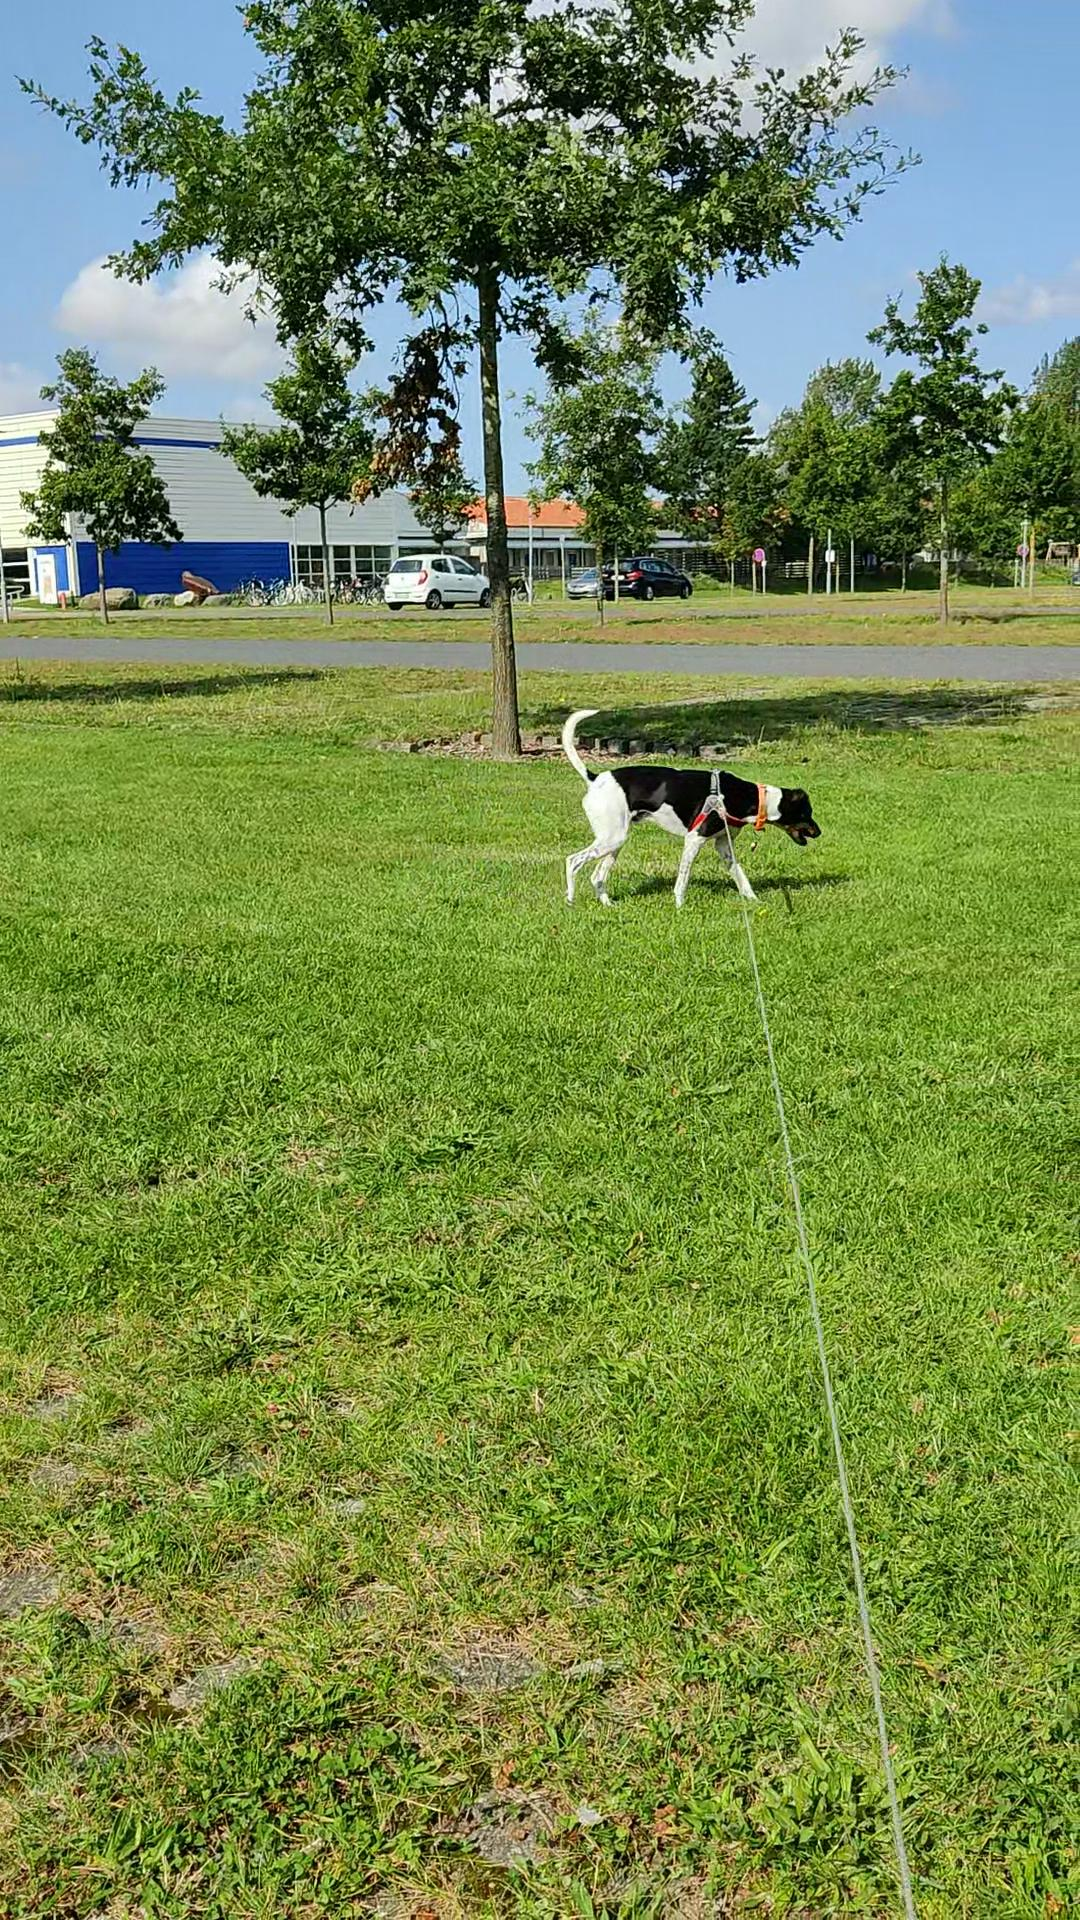Dog: (555, 699, 825, 913)
